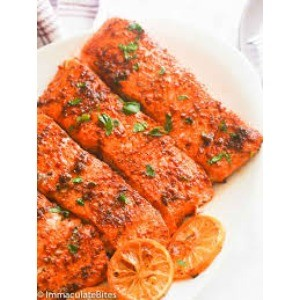salmon_brain food: (44, 69, 199, 212)
